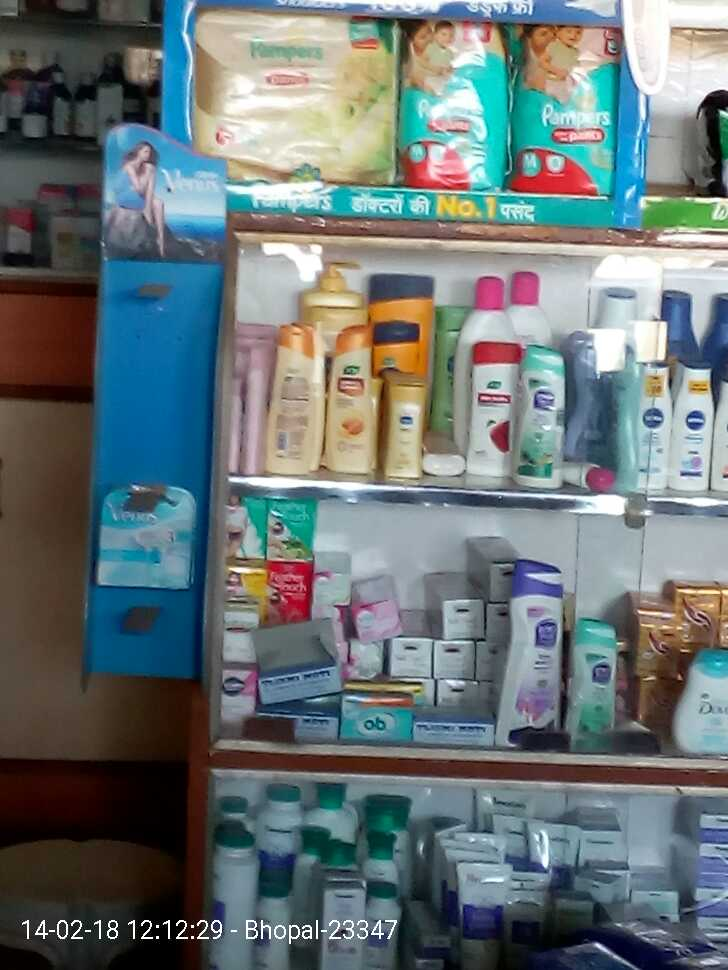pharmacy: (201, 7, 401, 176), (402, 22, 520, 196), (512, 26, 616, 200)
